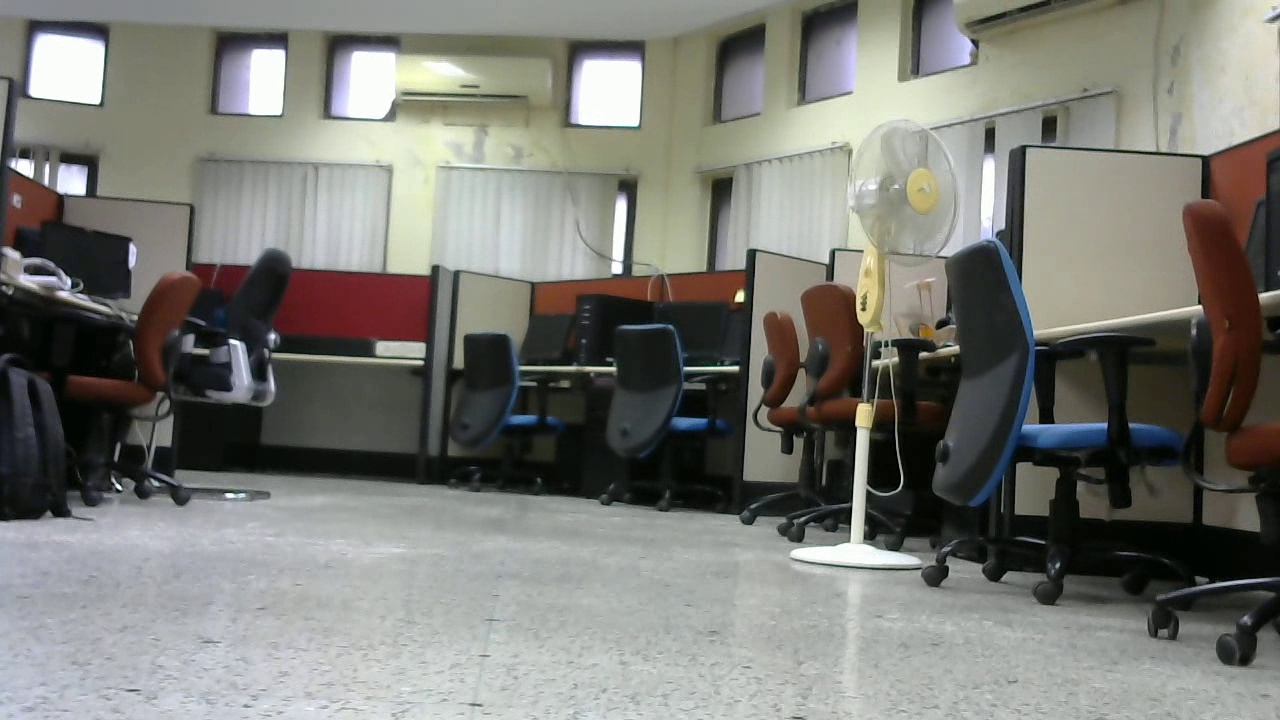chair: (923, 239, 1183, 606), (750, 281, 946, 548), (139, 248, 298, 493), (43, 271, 201, 487), (586, 322, 739, 502), (444, 330, 564, 492)
